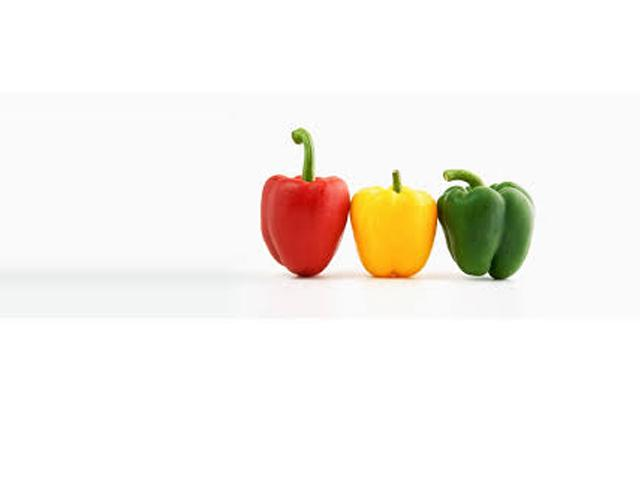bell_pepper: (233, 117, 358, 291)
